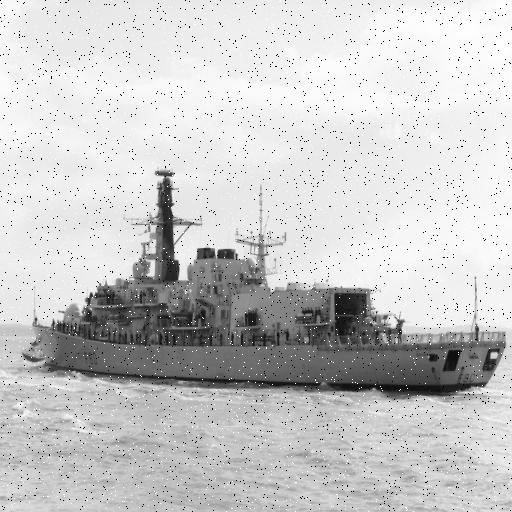Fragata: (32, 163, 510, 386)
